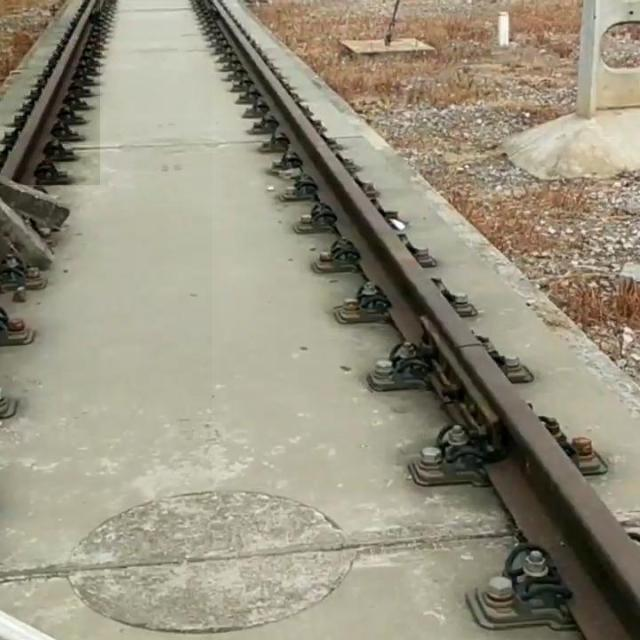rail: (213, 1, 640, 640), (2, 1, 101, 186)
